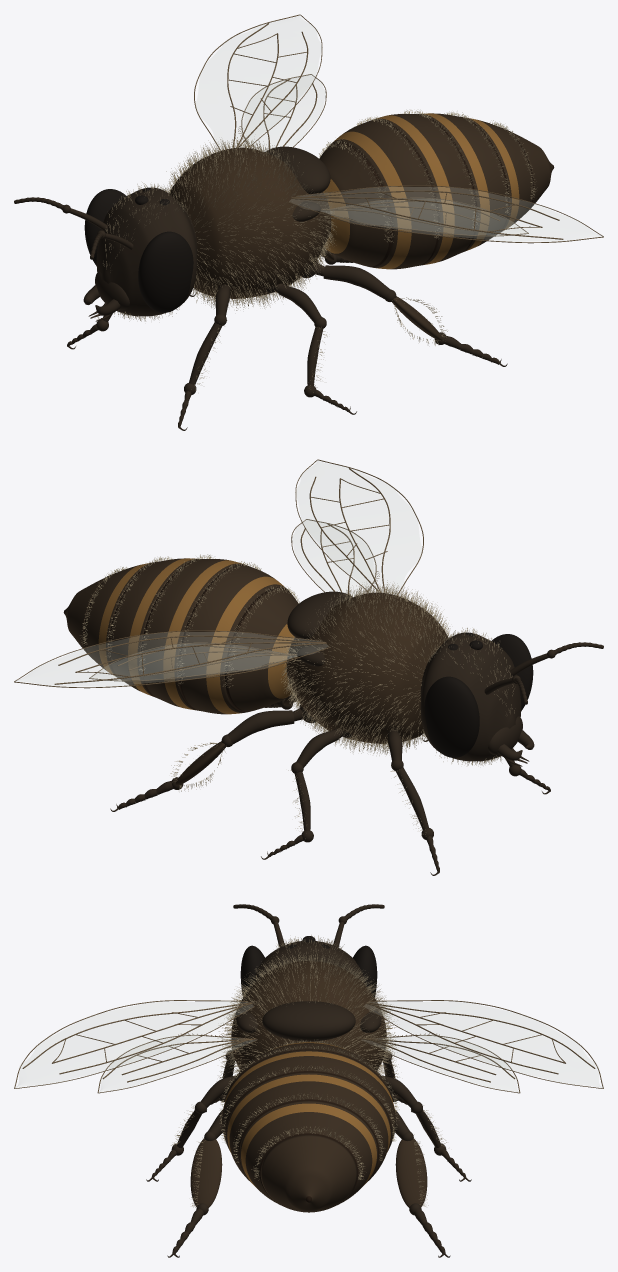
File: bee-fine-cerana-worker.glb
3 renders of one model, top to bottom at view 1: azimuth 30°, elevation 25°; view 2: azimuth 150°, elevation 25°; view 3: azimuth 270°, elevation 25°, orthographic. The views are drawn at different scales.
Parts seen in each view (by area): view 1: Thorax | continuous mesosoma.001, Forewing_1_membrane.001, Forewing_-1_membrane.001, Abdomen | tergite 2.001, Thoracic plumose coat.001, Abdomen | tergite 1.001, Head | sculpted capsule.001, Abdomen | tergite 3.001, Abdomen | tergite 4.001, Compound_eye_-1.001, Hindwing_1_membrane.001, Hindwing_-1_membrane.001 (+12 smaller); view 2: Thorax | continuous mesosoma.001, Forewing_-1_membrane.001, Forewing_1_membrane.001, Abdomen | tergite 2.001, Thoracic plumose coat.001, Abdomen | tergite 1.001, Head | sculpted capsule.001, Abdomen | tergite 3.001, Abdomen | tergite 4.001, Compound_eye_1.001, Hindwing_-1_membrane.001, Hindwing_1_membrane.001 (+12 smaller); view 3: Forewing_-1_membrane.001, Forewing_1_membrane.001, Thorax | continuous mesosoma.001, Abdomen | tergite 5.001, Abdomen | tergite 6.001, Abdomen | tergite 4.001, Thoracic plumose coat.001, Abdomen | tergite 3.001, Hindwing_-1_membrane.001, Hindwing_1_membrane.001, Scutellum.001, Abdominal tomentum | fine posterior fringes.001 (+6 smaller).
Boxes of the visible parts, x1=… form: Thorax | continuous mesosoma.001: x1=169, y1=147, x2=331, y2=298; Forewing_1_membrane.001: x1=196, y1=15, x2=321, y2=149; Forewing_-1_membrane.001: x1=289, y1=187, x2=602, y2=242; Abdomen | tergite 2.001: x1=328, y1=120, x2=439, y2=269; Thoracic plumose coat.001: x1=164, y1=137, x2=337, y2=310; Abdomen | tergite 1.001: x1=319, y1=142, x2=392, y2=266; Head | sculpted capsule.001: x1=96, y1=187, x2=197, y2=316; Abdomen | tergite 3.001: x1=371, y1=114, x2=477, y2=265; Abdomen | tergite 4.001: x1=418, y1=113, x2=509, y2=251; Compound_eye_-1.001: x1=138, y1=231, x2=193, y2=312; Hindwing_1_membrane.001: x1=243, y1=75, x2=325, y2=150; Hindwing_-1_membrane.001: x1=322, y1=199, x2=527, y2=234; Thorax | continuous mesosoma.001: x1=286, y1=592, x2=448, y2=743; Forewing_-1_membrane.001: x1=296, y1=460, x2=421, y2=593; Forewing_1_membrane.001: x1=15, y1=632, x2=327, y2=687; Abdomen | tergite 2.001: x1=178, y1=565, x2=289, y2=714; Thoracic plumose coat.001: x1=281, y1=580, x2=452, y2=755; Abdomen | tergite 1.001: x1=225, y1=587, x2=298, y2=711; Head | sculpted capsule.001: x1=420, y1=632, x2=521, y2=761; Abdomen | tergite 3.001: x1=140, y1=559, x2=246, y2=710; Abdomen | tergite 4.001: x1=108, y1=558, x2=198, y2=696; Compound_eye_1.001: x1=424, y1=676, x2=479, y2=757; Hindwing_-1_membrane.001: x1=292, y1=520, x2=374, y2=596; Hindwing_1_membrane.001: x1=90, y1=644, x2=293, y2=679; Forewing_-1_membrane.001: x1=15, y1=1001, x2=253, y2=1087; Forewing_1_membrane.001: x1=364, y1=1001, x2=602, y2=1087; Thorax | continuous mesosoma.001: x1=231, y1=960, x2=386, y2=1070; Abdomen | tergite 5.001: x1=239, y1=1100, x2=378, y2=1205; Abdomen | tergite 6.001: x1=260, y1=1135, x2=357, y2=1212; Abdomen | tergite 4.001: x1=226, y1=1072, x2=391, y2=1181; Thoracic plumose coat.001: x1=217, y1=948, x2=397, y2=1076; Abdomen | tergite 3.001: x1=222, y1=1050, x2=395, y2=1151; Hindwing_-1_membrane.001: x1=98, y1=1036, x2=255, y2=1092; Hindwing_1_membrane.001: x1=362, y1=1036, x2=519, y2=1092; Scutellum.001: x1=262, y1=1001, x2=355, y2=1041; Abdominal tomentum | fine posterior fringes.001: x1=219, y1=1040, x2=399, y2=1180.
Bounding box in the file's own units: 0.0109 × 0.00455 × 0.0115.
